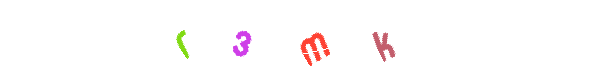3: (210, 0, 290, 80)
K: (302, 0, 382, 80)
M: (260, 0, 340, 80)
R: (142, 0, 222, 80)
